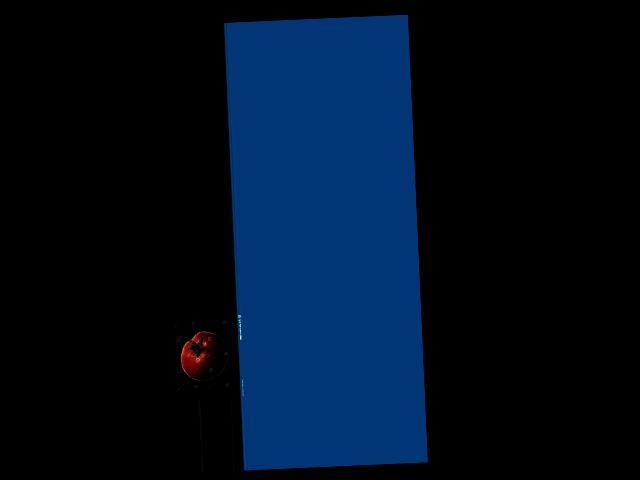tomato: (179, 330, 229, 382)
